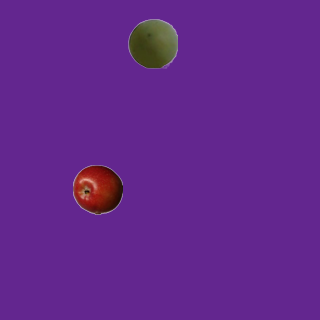Apple Braeburn: (72, 164, 122, 214)
Grape White 4: (127, 18, 177, 68)
